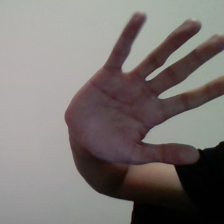left: (57, 1, 224, 168)
